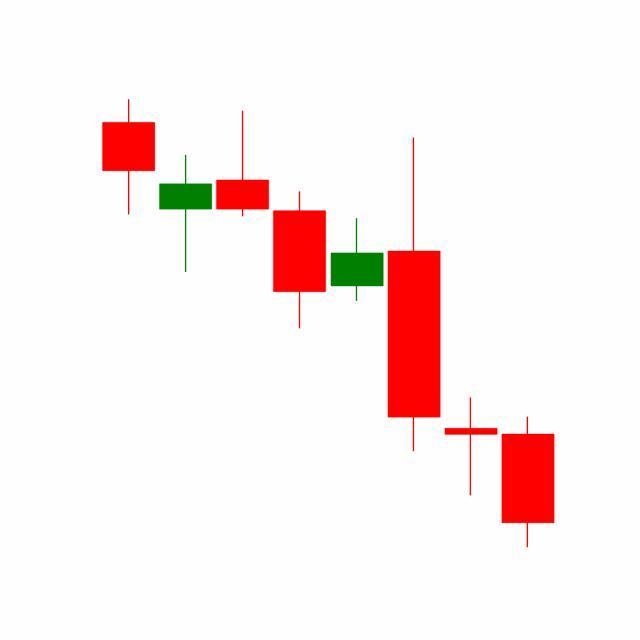Three Outside Up-Down: (328, 134, 500, 500)
